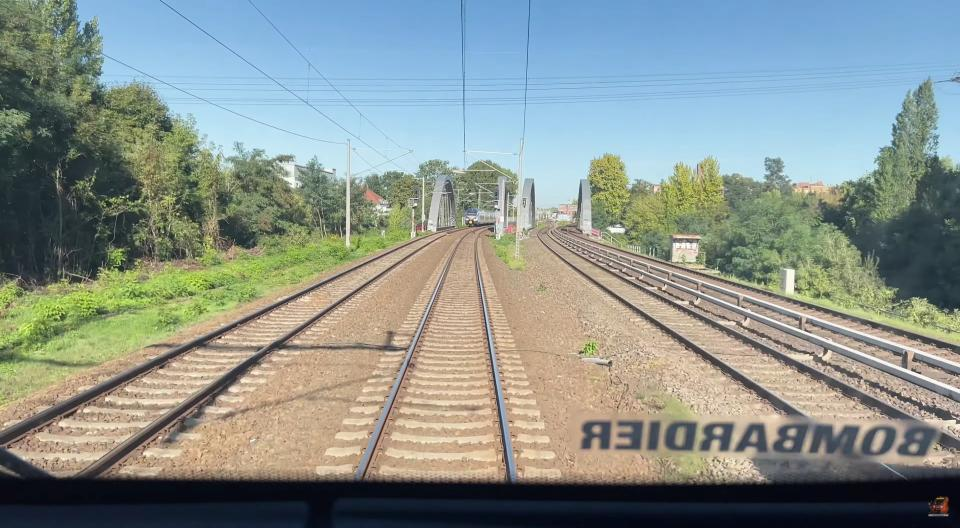Plant: (580, 339, 599, 356)
